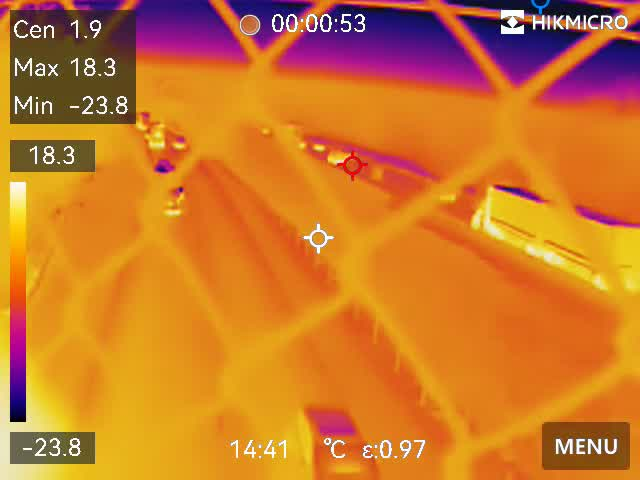heavyTruck: (465, 178, 640, 295)
smallCar: (293, 390, 385, 480)
vehicle: (144, 132, 164, 150), (166, 135, 189, 150)
